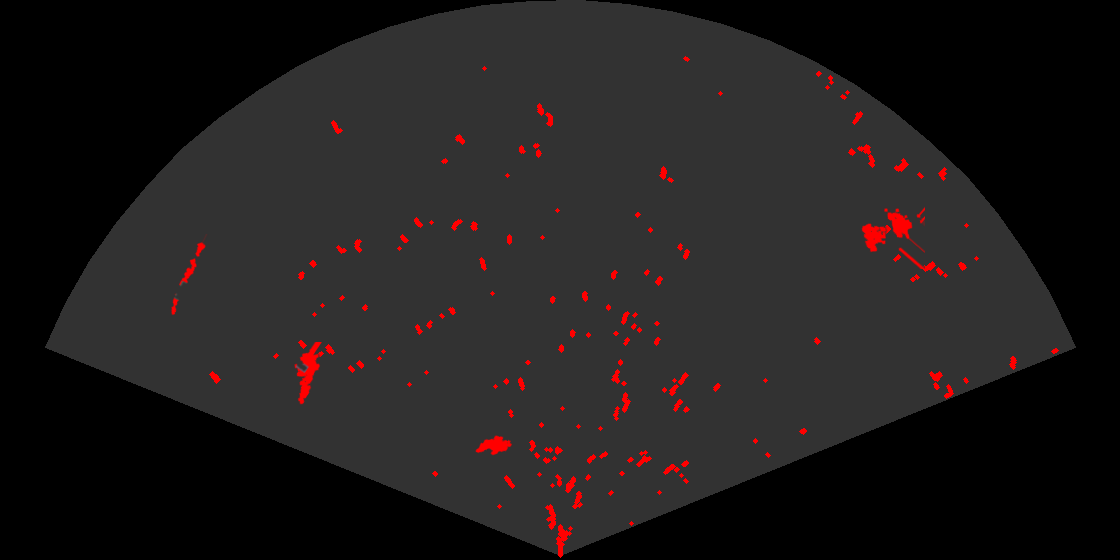AUV: (474, 434, 514, 457)
cage: (860, 205, 925, 269)
chain: (170, 234, 209, 317)
frogman: (293, 342, 323, 406)
